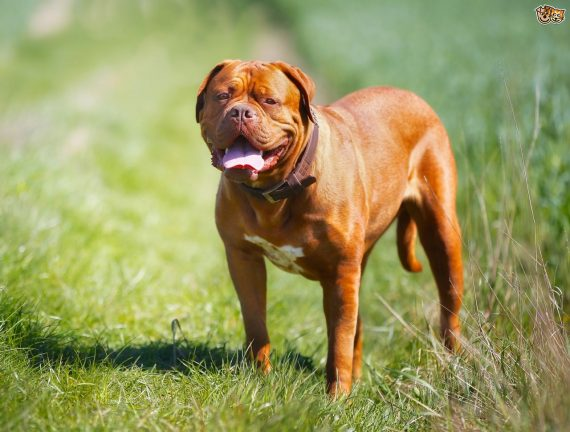dogue_de_bordeaux: (194, 58, 471, 399)
